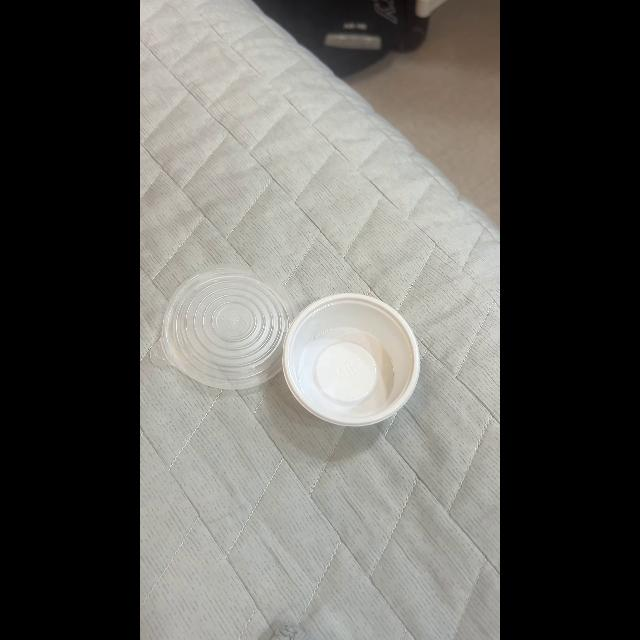clean: (164, 265, 426, 431)
